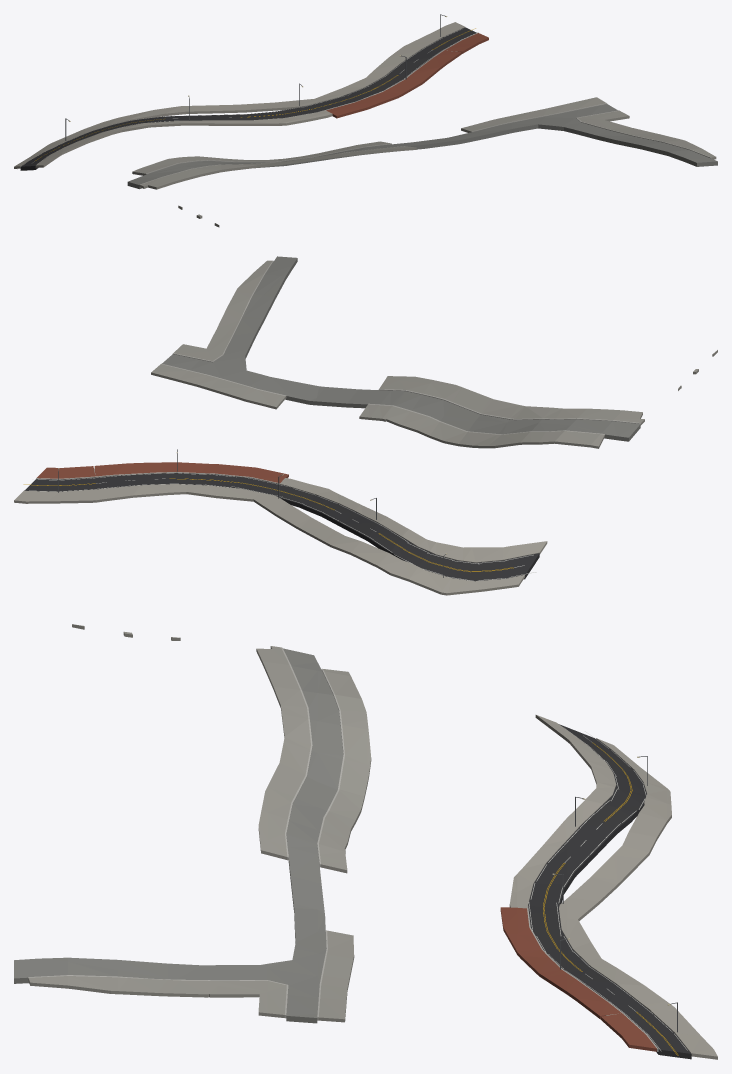
3 views of the same model, one above another, from view 1: azimuth 30°, elevation 25°; view 2: azimuth 150°, elevation 25°; view 3: azimuth 270°, elevation 25° (orthographic). The views are drawn at different scales.
Bounding box in the file's own units: 151 × 29.47 × 141.
